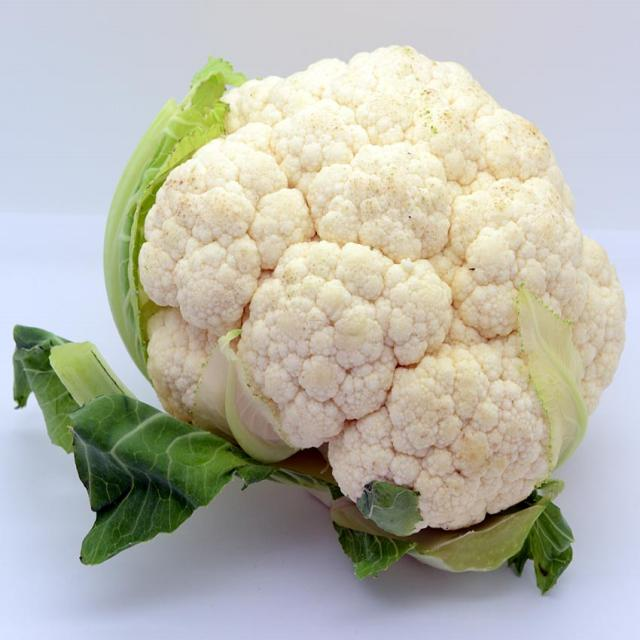cauliflower: (94, 14, 608, 575)
